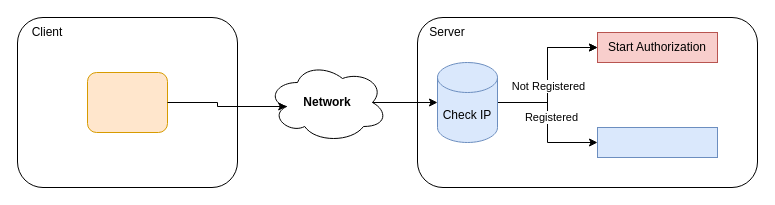
Some shapes in this 775 by 205 pixel diagram are drawn without their labels. The centre of each missing label's shape, as x and y in pixels:
Connection Complete: pixel 657 142
GUI: pixel 127 102
